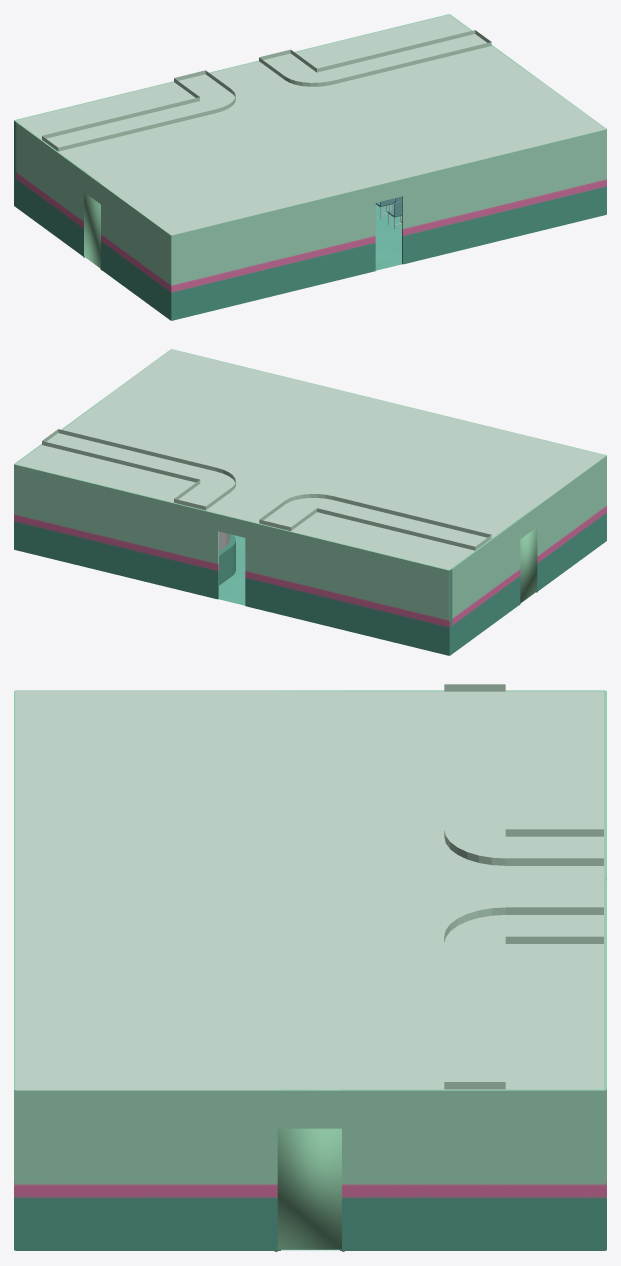
The model's file is hub.fbx.
3 renders of one model, top to bottom at view 1: azimuth 30°, elevation 25°; view 2: azimuth 150°, elevation 25°; view 3: azimuth 270°, elevation 25°, orthographic. The views are drawn at different scales.
Visible parts, largest first — view 1: Techo, Pared_Sur_izq, Pared_Sur_der, Pared_Oeste_izq, Pared_Oeste_der, Cube.002, Cube.005, Piso, Puerta_Lateral_Oeste, Pared_Sur_dintel; view 2: Techo, Pared_Norte_izq, Pared_Norte_der, Pared_Oeste_der, Pared_Oeste_izq, Cube.005, Cube.002, Puerta_Lateral_Oeste, Piso, Cube, Pared_Norte_dintel; view 3: Techo, Pared_Este_der, Pared_Este_izq, Puerta_Lateral_Este, Cube.005, Cube.002, Pared_Este_dintel, Pared_Norte_der.
Boxes of the visible parts, x1,y1,x2,y2 form: Techo: [16, 15, 605, 235]; Pared_Sur_izq: [171, 185, 375, 320]; Pared_Sur_der: [402, 129, 606, 264]; Pared_Oeste_izq: [100, 183, 171, 320]; Pared_Oeste_der: [14, 120, 85, 257]; Cube.002: [259, 30, 491, 86]; Cube.005: [42, 70, 235, 151]; Piso: [375, 203, 401, 270]; Puerta_Lateral_Oeste: [83, 192, 101, 270]; Pared_Sur_dintel: [375, 179, 402, 202]; Techo: [16, 349, 605, 569]; Pared_Norte_izq: [245, 520, 449, 655]; Pared_Norte_der: [14, 464, 218, 599]; Pared_Oeste_der: [449, 518, 520, 655]; Pared_Oeste_izq: [536, 455, 606, 592]; Cube.005: [259, 494, 491, 550]; Cube.002: [42, 429, 235, 510]; Puerta_Lateral_Oeste: [520, 527, 537, 603]; Piso: [219, 535, 245, 605]; Cube: [219, 534, 235, 585]; Pared_Norte_dintel: [218, 513, 245, 537]; Techo: [15, 691, 603, 1089]; Pared_Este_der: [340, 1089, 605, 1250]; Pared_Este_izq: [15, 1090, 280, 1250]; Puerta_Lateral_Este: [274, 1128, 344, 1251]; Cube.005: [444, 684, 603, 865]; Cube.002: [444, 907, 603, 1089]; Pared_Este_dintel: [281, 1089, 339, 1128]; Pared_Norte_der: [604, 903, 606, 1250].
Bounding box in the file's own units: 1605 × 315 × 1005.
